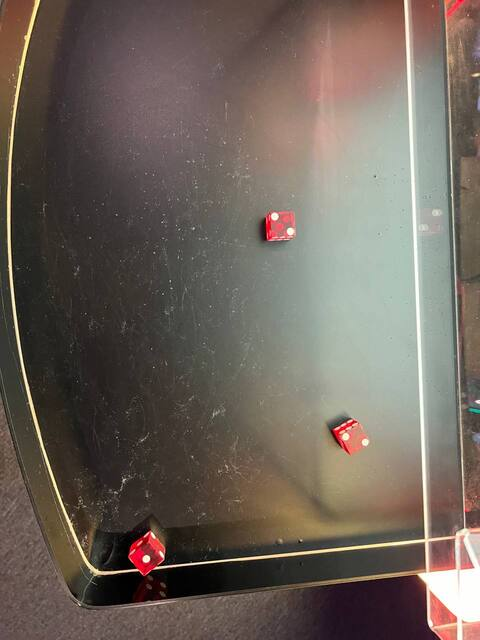one: (128, 541, 161, 580)
two: (263, 207, 300, 244), (338, 423, 373, 456)
